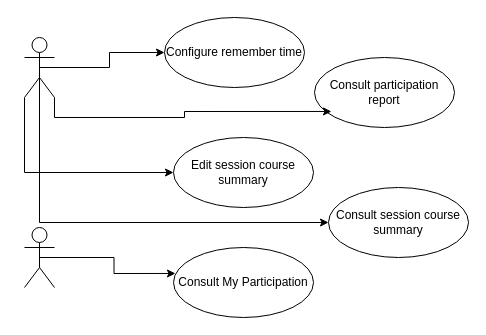
This 486x335 diagram has some shape labels left out. Here are the shapes that lost their labels. From the top down, the box of each, then its label:
(24, 36, 54, 98): Teacher
(24, 226, 54, 288): Student
